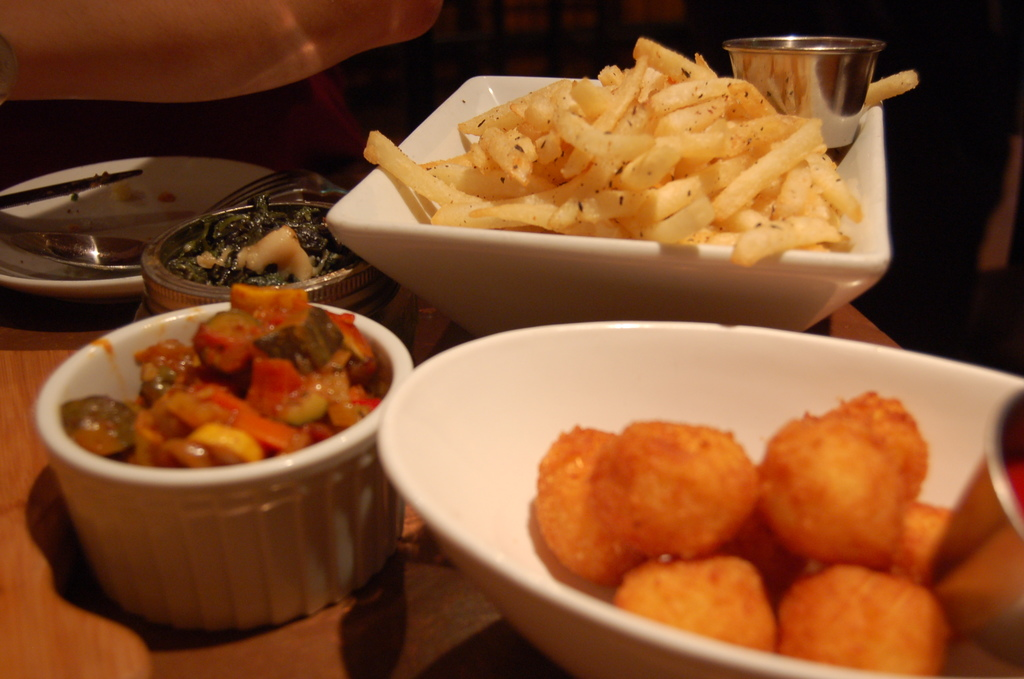French fries: (365, 41, 912, 256)
